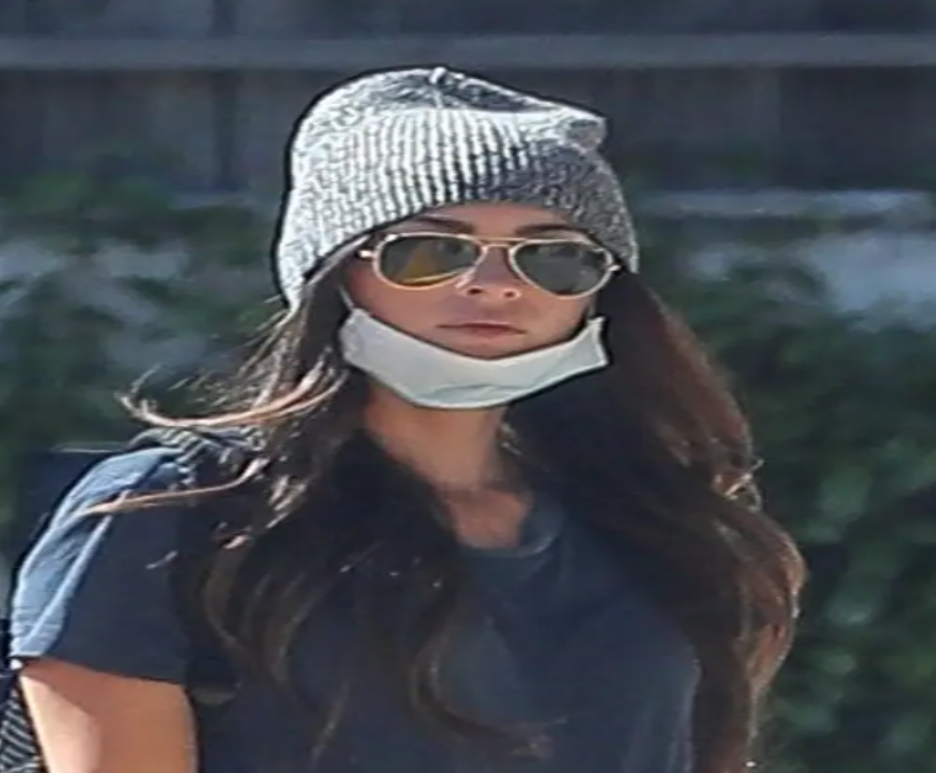mask_weared_incorrect: (276, 70, 637, 416)
